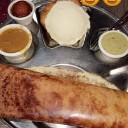dosa: (1, 62, 128, 127)
